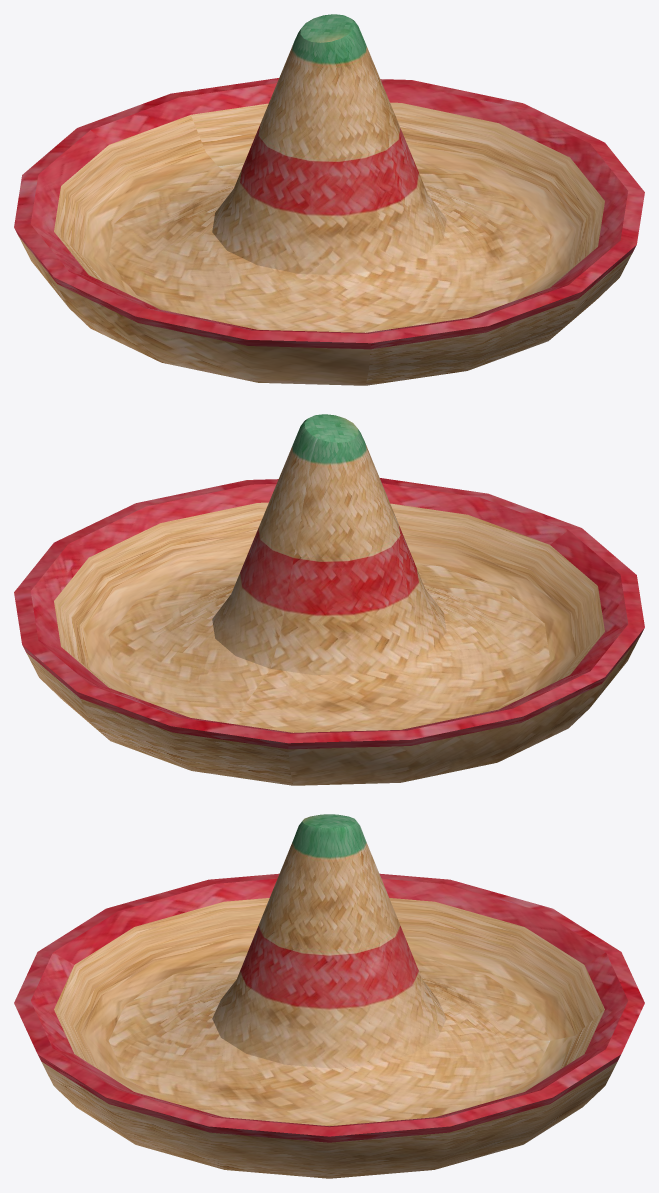
The model's file is sombra.gltf.
3 renders of one model, top to bottom at view 1: azimuth 30°, elevation 25°; view 2: azimuth 150°, elevation 25°; view 3: azimuth 270°, elevation 25°, orthographic.
Parts seen in each view (by area): view 1: Object_2; view 2: Object_2; view 3: Object_2.
Part boxes in pixels (x1,y1,x2,y2): Object_2: (14,14,644,385); Object_2: (14,414,644,785); Object_2: (14,814,644,1178).
Size of the model in its own units: 0.0521 by 0.0232 by 0.0521.
2 materials, 1 textured.
